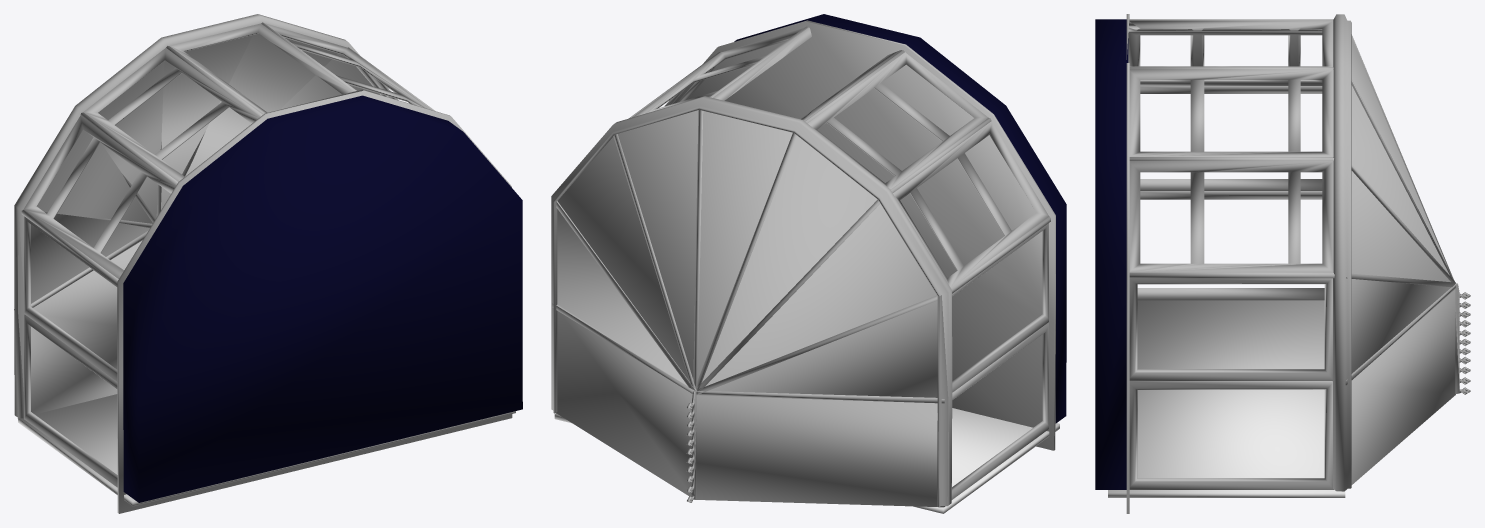
The model's file is sunporch.fbx.
3 views of the same model, side by side, from view 1: azimuth 30°, elevation 25°; view 2: azimuth 150°, elevation 25°; view 3: azimuth 270°, elevation 25° (orthographic). The views are drawn at different scales.
Parts seen in each view (by area): view 1: conserv1_BROWN_BRICKS, conserv1_WHITE_PLASSP, Cube; view 2: conserv1_WHITE_PLASSP, conserv1_BROWN_BRICKS, Cube; view 3: conserv1_WHITE_PLASSP, Cube, conserv1_BROWN_BRICKS.
Part boxes in pixels (x1,y1,x2,y2): conserv1_BROWN_BRICKS: (123, 95, 522, 502); conserv1_WHITE_PLASSP: (14, 14, 512, 513); Cube: (18, 394, 515, 506); conserv1_WHITE_PLASSP: (551, 20, 1055, 507); conserv1_BROWN_BRICKS: (734, 14, 1066, 423); Cube: (554, 408, 1059, 513); conserv1_WHITE_PLASSP: (1126, 14, 1470, 513); Cube: (1108, 300, 1345, 497); conserv1_BROWN_BRICKS: (1095, 19, 1128, 489).
Size of the model in its own units: 0.0145 by 0.0128 by 0.0116.
